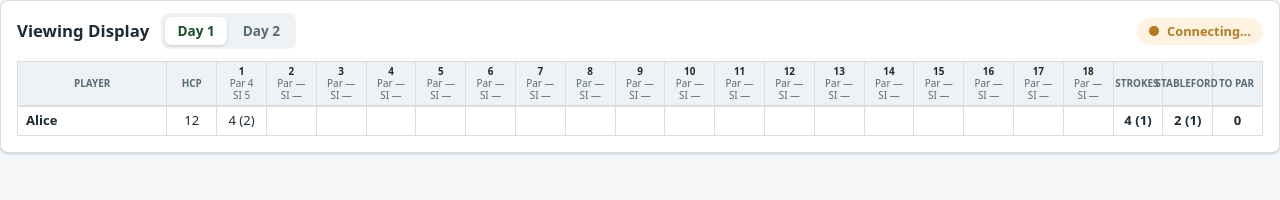
it: ViewingDisplayScreen › switches to Day 2 and marks a CUT player against their name (9.1, 9.2, 9.17)
Expected: the column heading "Alice" is shown, [18, 107, 167, 135]
Click the tab "Day 2": coordinates (261, 31) [231, 17, 292, 45]
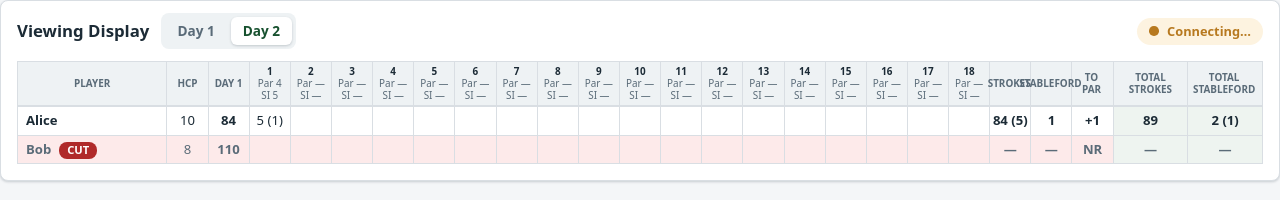
Expected: the text "10" is shown, [167, 107, 208, 135]
Expected: the text "CUT" is shown, [59, 142, 97, 159]
